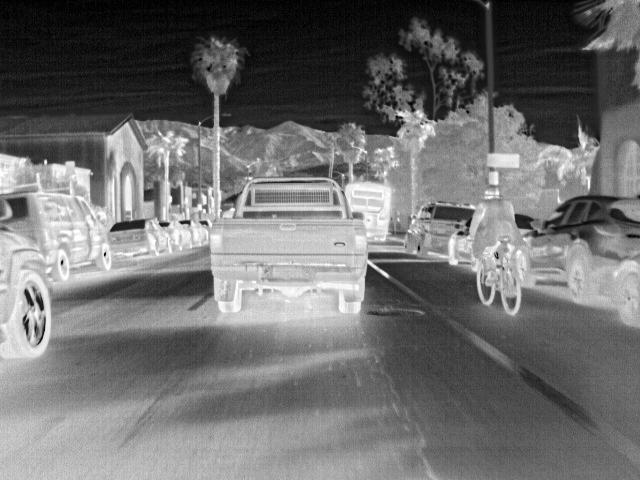car: (208, 176, 371, 316), (525, 193, 639, 301), (1, 191, 113, 282), (0, 242, 56, 362), (404, 200, 470, 258), (105, 218, 175, 259), (614, 252, 639, 326), (446, 215, 471, 266), (161, 221, 184, 251), (178, 220, 202, 248), (200, 219, 213, 242)
person: (466, 185, 522, 273)
